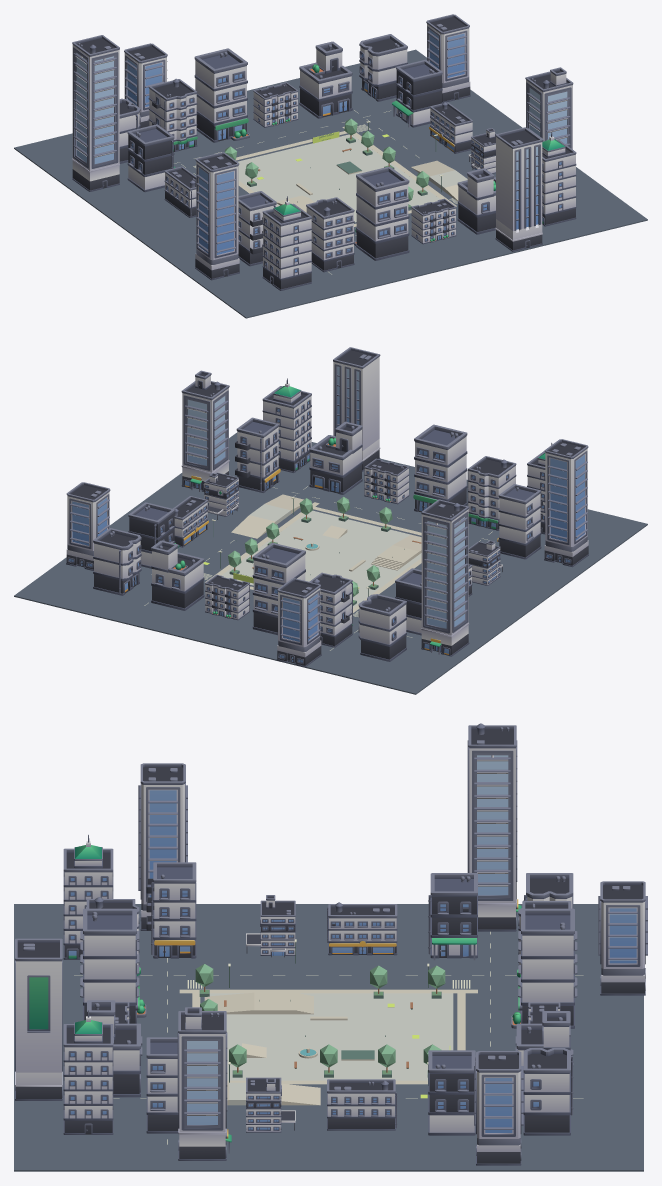
Rendered from junction-city.glb.
The picture shows the model from 3 angles, top to bottom: view 1: azimuth 30°, elevation 25°; view 2: azimuth 150°, elevation 25°; view 3: azimuth 270°, elevation 25°; orthographic projection. The views are drawn at different scales.
Visible parts, largest first — view 1: CAST_colormap, NO_SHADOW_Street asphalt, NO_SHADOW_Warm plaza concrete, CAST_Foliage, CAST_Civic limestone, NO_SHADOW_Civic limestone, CAST_Warm plaza concrete; view 2: CAST_colormap, NO_SHADOW_Street asphalt, NO_SHADOW_Warm plaza concrete, CAST_Civic limestone, CAST_Foliage, NO_SHADOW_Civic limestone; view 3: CAST_colormap, NO_SHADOW_Street asphalt, NO_SHADOW_Warm plaza concrete, CAST_Civic limestone, NO_SHADOW_Civic limestone, CAST_Foliage, CAST_Dark green metal.
Boxes of the visible parts, x1,y1,x2,y2 form: CAST_colormap: (72,14,576,290); NO_SHADOW_Street asphalt: (14,49,647,318); NO_SHADOW_Warm plaza concrete: (237,134,440,222); CAST_Foliage: (224,118,429,200); CAST_Civic limestone: (276,160,458,212); NO_SHADOW_Civic limestone: (235,126,456,226); CAST_Warm plaza concrete: (429,170,467,191); CAST_colormap: (66,347,588,667); NO_SHADOW_Street asphalt: (14,432,647,694); NO_SHADOW_Warm plaza concrete: (221,510,421,607); CAST_Civic limestone: (231,494,421,571); CAST_Foliage: (228,496,392,596); NO_SHADOW_Civic limestone: (205,502,421,612); CAST_colormap: (15,723,647,1165); NO_SHADOW_Street asphalt: (14,904,643,1171); NO_SHADOW_Warm plaza concrete: (204,993,453,1080); CAST_Civic limestone: (205,992,374,1105); NO_SHADOW_Civic limestone: (179,989,477,1084); CAST_Foliage: (195,964,445,1067); CAST_Dark green metal: (199,942,441,1085).
Size of what is drawn, in the model's own units: 152 by 51.68 by 153.
11 materials, 1 textured.
